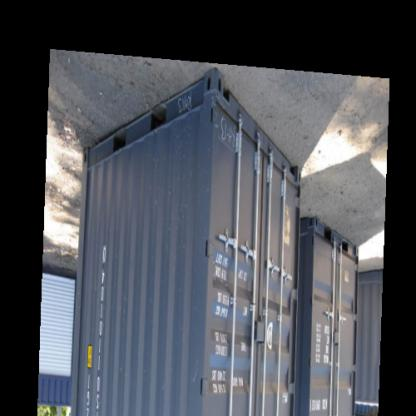Damage: (212, 108, 238, 151), (188, 350, 204, 390), (178, 92, 195, 116)
